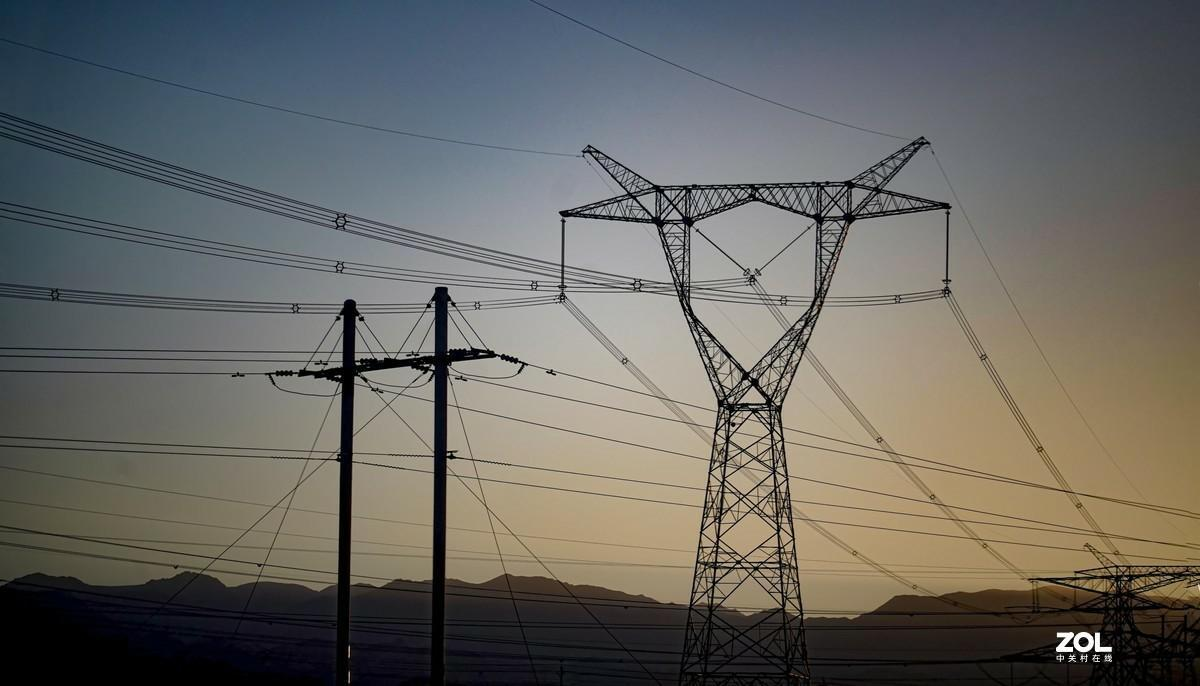power_tower: (552, 132, 957, 677), (280, 269, 508, 686), (1024, 536, 1200, 644)
